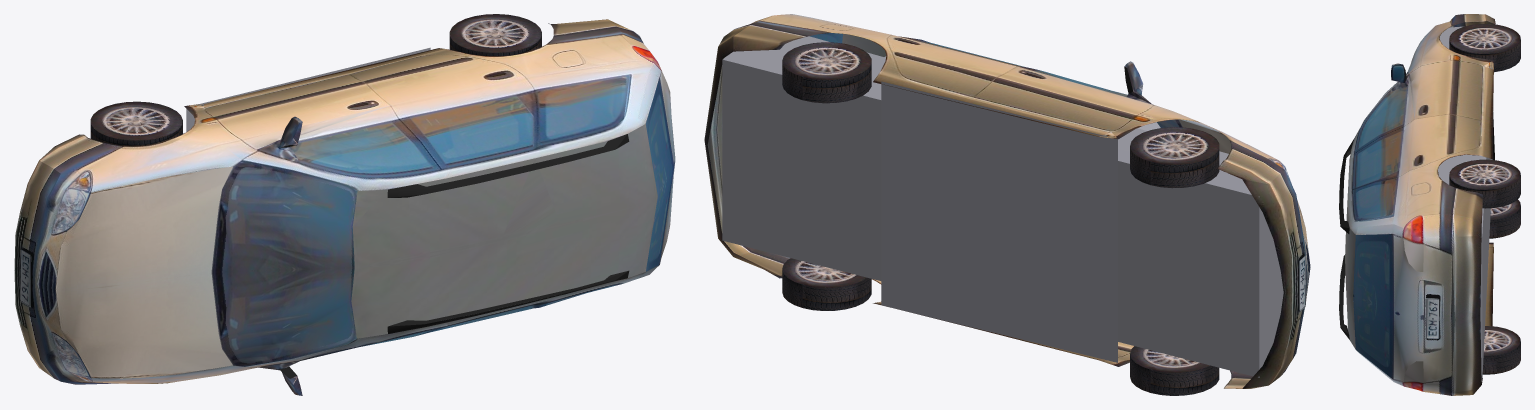
File: Car_13.obj
3 views of the same model, side by side, from view 1: azimuth 30°, elevation 25°; view 2: azimuth 150°, elevation 25°; view 3: azimuth 270°, elevation 25° (orthographic). The views are drawn at different scales.
Visible parts, largest first — view 1: _3body, _3tyres, _3tyresurf, _3fill, _3plates; view 2: _3fill, _3body, _3tyresurf, _3tyres; view 3: _3body, _3tyres, _3tyresurf, _3fill, _3plates.
Boxes of the visible parts, x1,y1,x2,y2 form: _3body: [14, 19, 675, 395]; _3tyres: [90, 14, 541, 140]; _3tyresurf: [90, 33, 541, 146]; _3fill: [183, 47, 430, 141]; _3plates: [20, 249, 31, 307]; _3fill: [722, 36, 1283, 377]; _3body: [704, 14, 1310, 388]; _3tyresurf: [782, 62, 1219, 395]; _3tyres: [782, 42, 1219, 372]; _3body: [1339, 14, 1495, 395]; _3tyres: [1449, 24, 1520, 356]; _3tyresurf: [1449, 40, 1520, 374]; _3fill: [1438, 26, 1492, 381]; _3plates: [1425, 298, 1439, 338].
Bounding box in the file's own units: 4.88 × 2.07 × 1.6.
